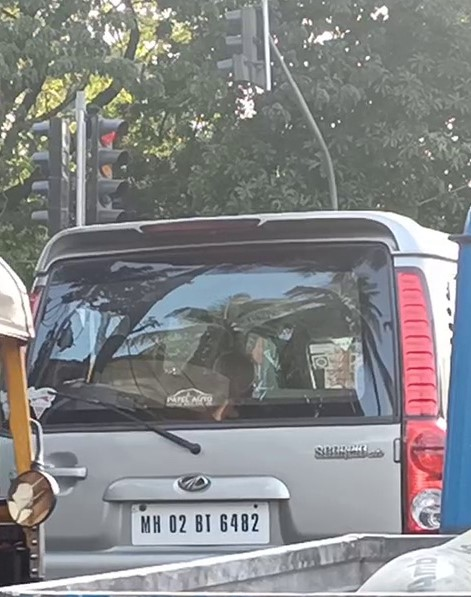MH02BT6482: (128, 499, 271, 546)
